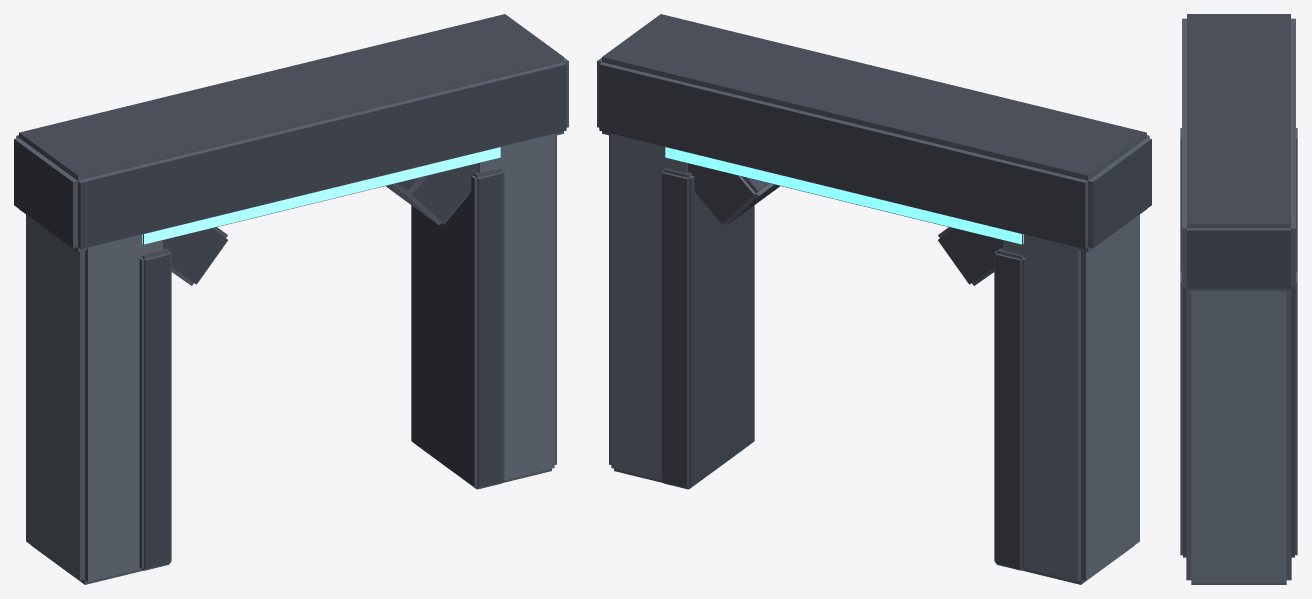
Rendered from TILE_Arch.glb.
3 renders of one model, left to right at view 1: azimuth 30°, elevation 25°; view 2: azimuth 150°, elevation 25°; view 3: azimuth 270°, elevation 25°, orthographic. The views are drawn at different scales.
Visible parts, largest first — view 1: TILE_Arch; view 2: TILE_Arch; view 3: TILE_Arch.
Boxes of the visible parts, left/top/right/bottom form: TILE_Arch: left=14, top=14, right=568, bottom=584; TILE_Arch: left=597, top=14, right=1151, bottom=584; TILE_Arch: left=1180, top=14, right=1297, bottom=584.
Bounding box in the file's own units: 5.95 × 4.74 × 1.38.
